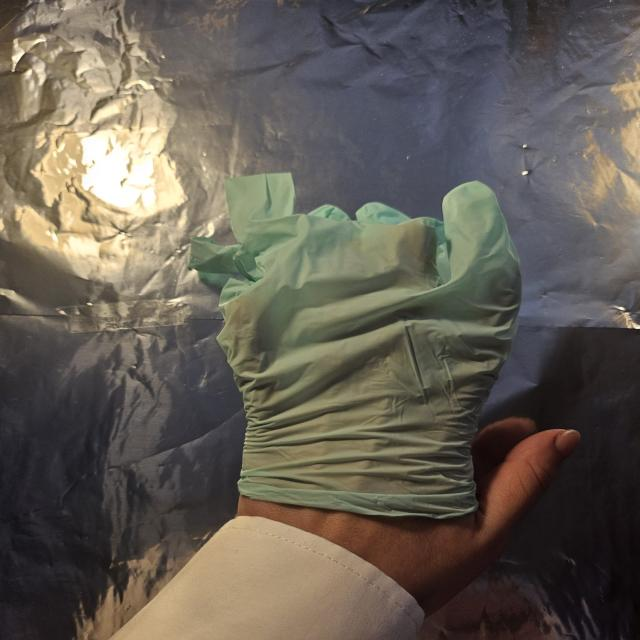glove_partial: (183, 172, 584, 580)
